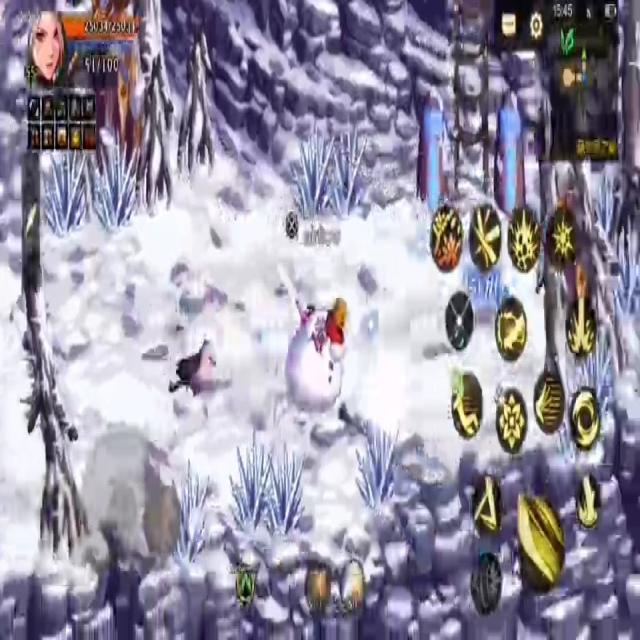player: (276, 284, 350, 434)
